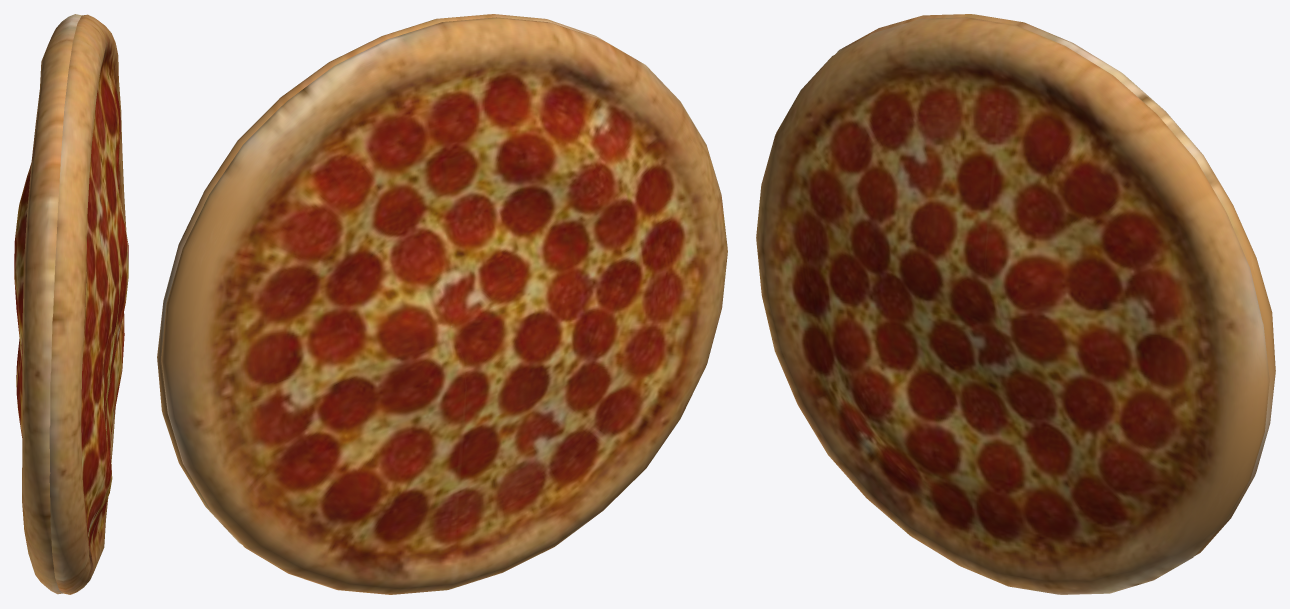
The model's file is pizza.glb.
3 views of the same model, side by side, from view 1: azimuth 30°, elevation 25°; view 2: azimuth 150°, elevation 25°; view 3: azimuth 270°, elevation 25° (orthographic). The views are drawn at different scales.
Visible parts, largest first — view 1: Pizza_40_Material #42_0.001; view 2: Pizza_40_Material #42_0.001; view 3: Pizza_40_Material #42_0.001.
Boxes of the visible parts, x1,y1,x2,y2 form: Pizza_40_Material #42_0.001: (14, 14, 128, 594); Pizza_40_Material #42_0.001: (157, 14, 727, 594); Pizza_40_Material #42_0.001: (756, 14, 1275, 594).
Bounding box in the file's own units: 1.26 × 2.07 × 1.74.
Materials: 1 (1 with a texture image).
